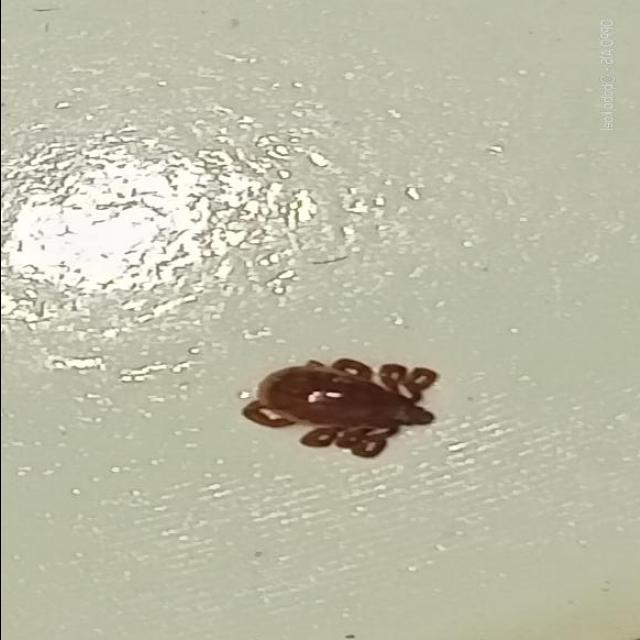Rhipicephalus Sanguineus-M: (245, 357, 440, 460)
